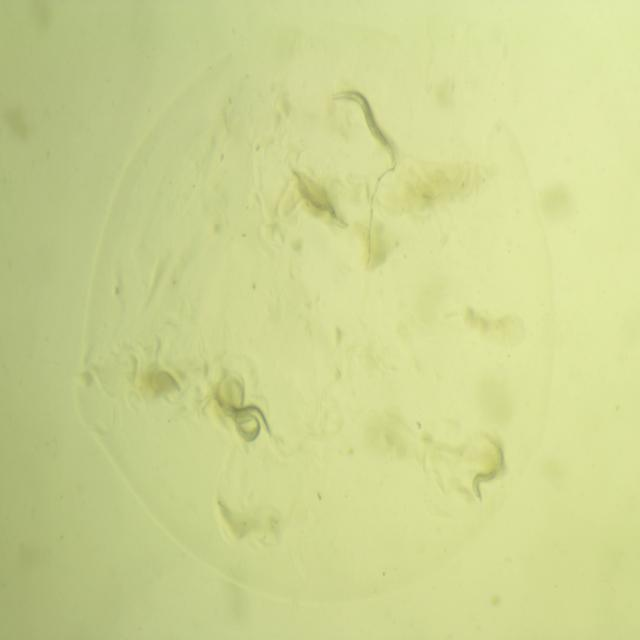worm: (326, 82, 399, 170), (284, 160, 352, 241), (196, 389, 276, 443), (469, 435, 510, 506), (230, 372, 265, 453)
